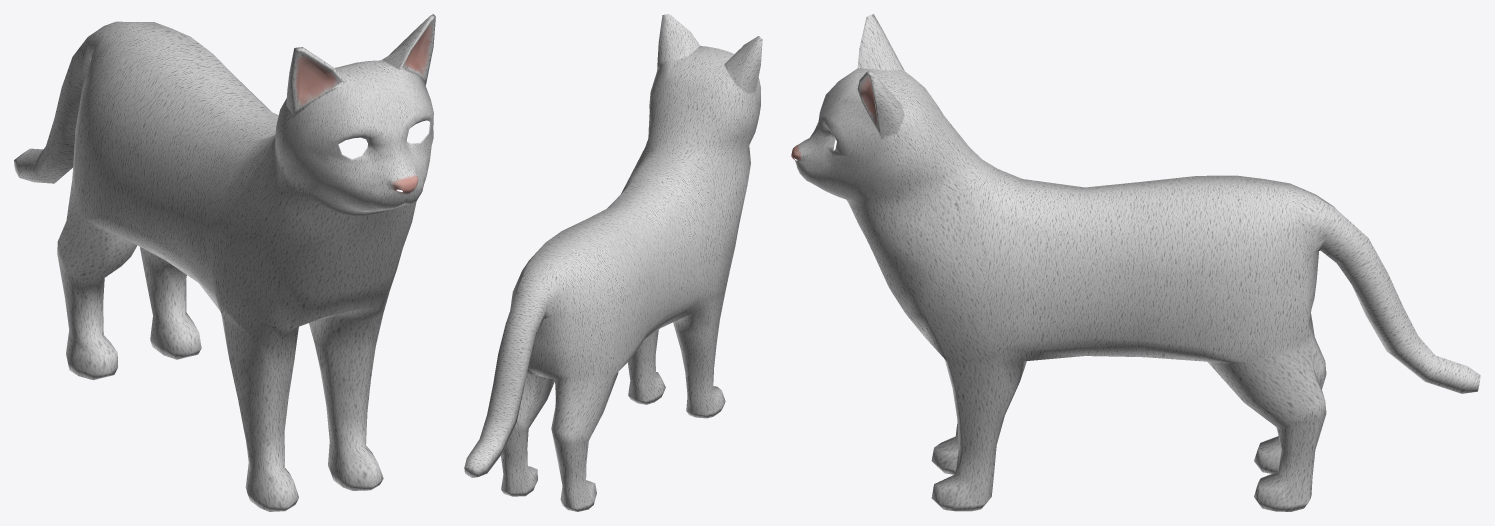
File: cat_body.glb
3 renders of one model, left to right at view 1: azimuth 30°, elevation 25°; view 2: azimuth 150°, elevation 25°; view 3: azimuth 270°, elevation 25°, orthographic. The views are drawn at different scales.
Parts seen in each view (by area): view 1: body cat_geo; view 2: body cat_geo; view 3: body cat_geo.
Boxes of the visible parts, x1=… form: body cat_geo: x1=14, y1=14, x2=435, y2=511; body cat_geo: x1=464, y1=14, x2=762, y2=511; body cat_geo: x1=791, y1=14, x2=1480, y2=511.
Bounding box in the file's own units: 15.72 × 50.53 × 71.3.
Materials: 1 (1 with a texture image).
